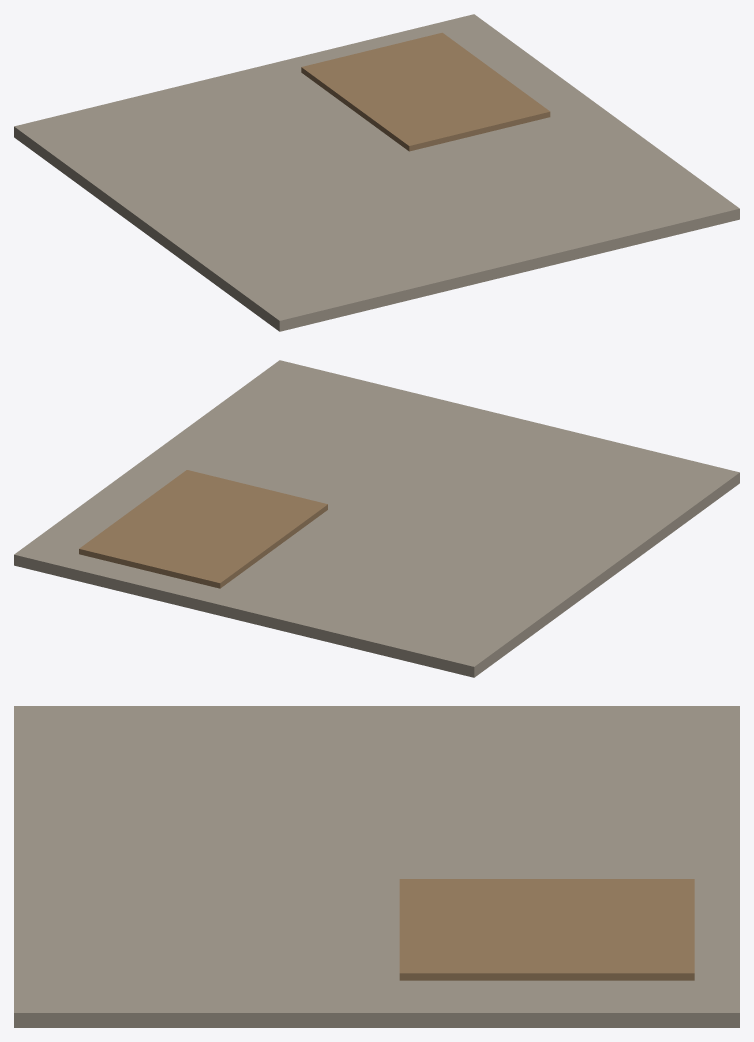
File: env_floor_interior_1.glb
The picture shows the model from 3 angles, top to bottom: view 1: azimuth 30°, elevation 25°; view 2: azimuth 150°, elevation 25°; view 3: azimuth 270°, elevation 25°; orthographic projection. The views are drawn at different scales.
Visible parts, largest first — view 1: env_floor_interior_1; view 2: env_floor_interior_1; view 3: env_floor_interior_1.
Boxes of the visible parts, x1=… form: env_floor_interior_1: x1=14, y1=14, x2=739, y2=331; env_floor_interior_1: x1=14, y1=360, x2=739, y2=677; env_floor_interior_1: x1=14, y1=706, x2=739, y2=1027.
Size of the model in its own units: 3.52 by 0.12 by 3.52.
